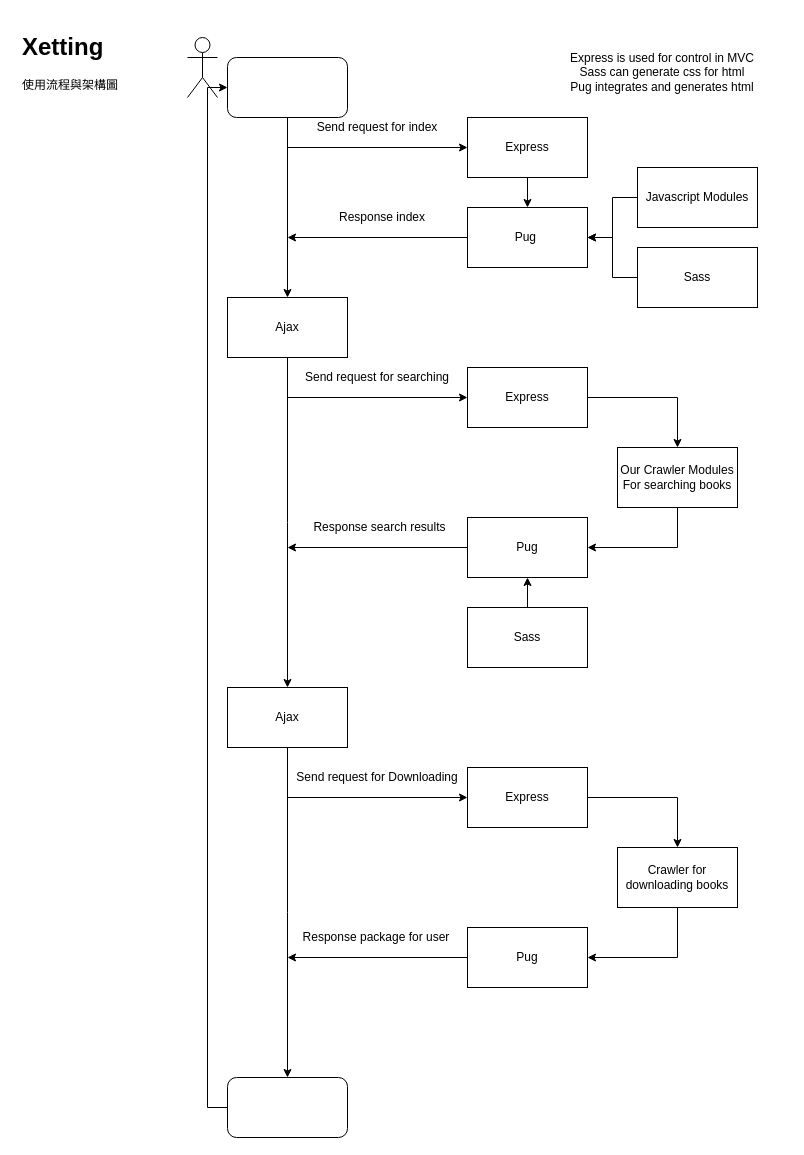
The diagram is 804 pixels wide and 1155 high, and some of its shapes have lost their labels. Here are the shapes that lost their labels. From the top down, the centre of each, then its label:
At pixel 202 67: "User".
At pixel 287 87: "Start".
At pixel 287 1107: "Finish".
